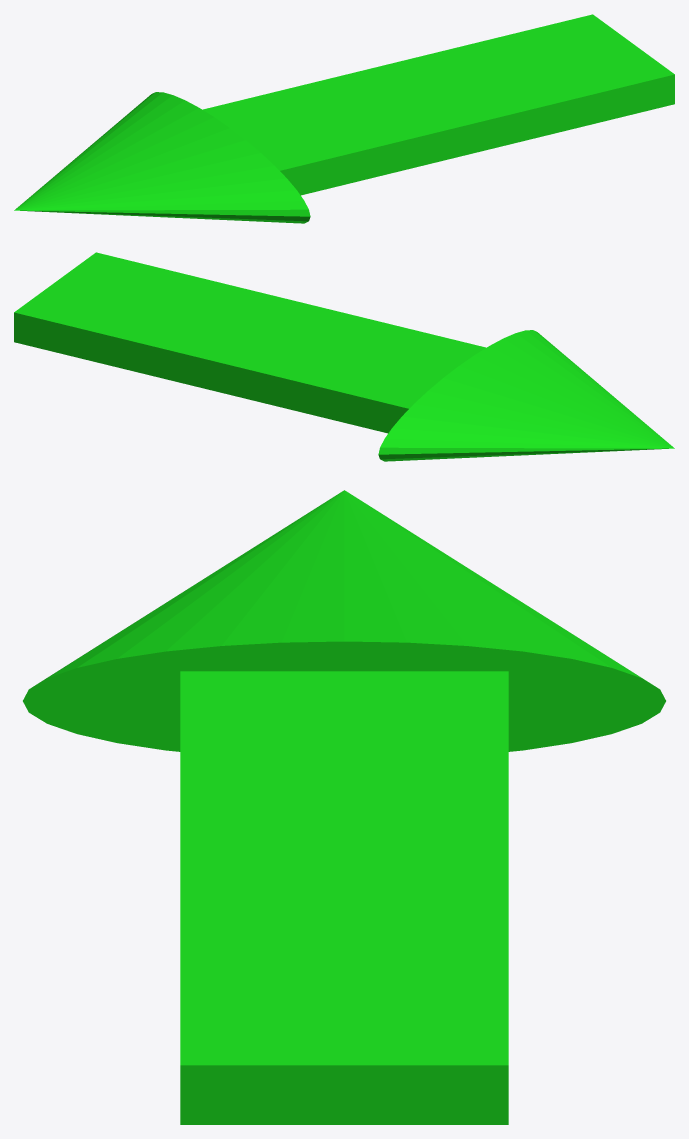
Rendered from Flecha2.glb.
3 renders of one model, top to bottom at view 1: azimuth 30°, elevation 25°; view 2: azimuth 150°, elevation 25°; view 3: azimuth 270°, elevation 25°, orthographic. The views are drawn at different scales.
Visible parts, largest first — view 1: Flecha; view 2: Flecha; view 3: Flecha.
Boxes of the visible parts, <box> form: Flecha: <box>14,14,674,223</box>; Flecha: <box>14,252,674,461</box>; Flecha: <box>23,490,665,1124</box>.
Bounding box in the file's own units: 2.18 × 0.2 × 0.98.
